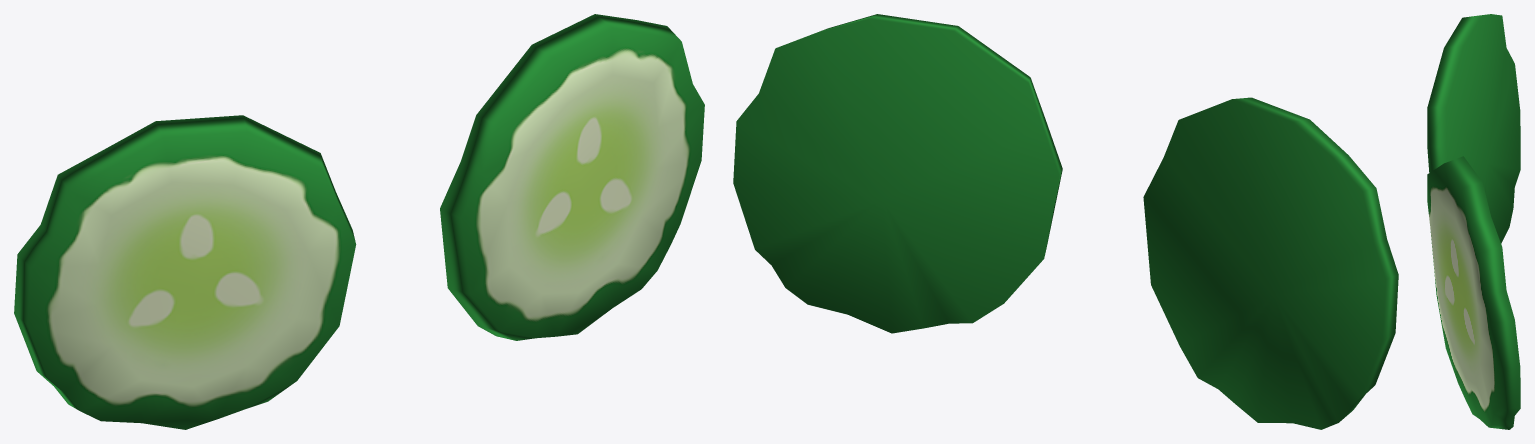
Rendered from SM_glass5.fbx.
3 views of the same model, side by side, from view 1: azimuth 30°, elevation 25°; view 2: azimuth 150°, elevation 25°; view 3: azimuth 270°, elevation 25° (orthographic). The views are drawn at different scales.
Parts seen in each view (by area): view 1: glass; view 2: glass; view 3: glass.
Part boxes in pixels (box(x1,y1,x2,y2)): glass: box(14, 14, 704, 429); glass: box(733, 14, 1398, 429); glass: box(1427, 14, 1520, 429).
Size of the model in its own units: 31.44 by 14.02 by 4.84.
